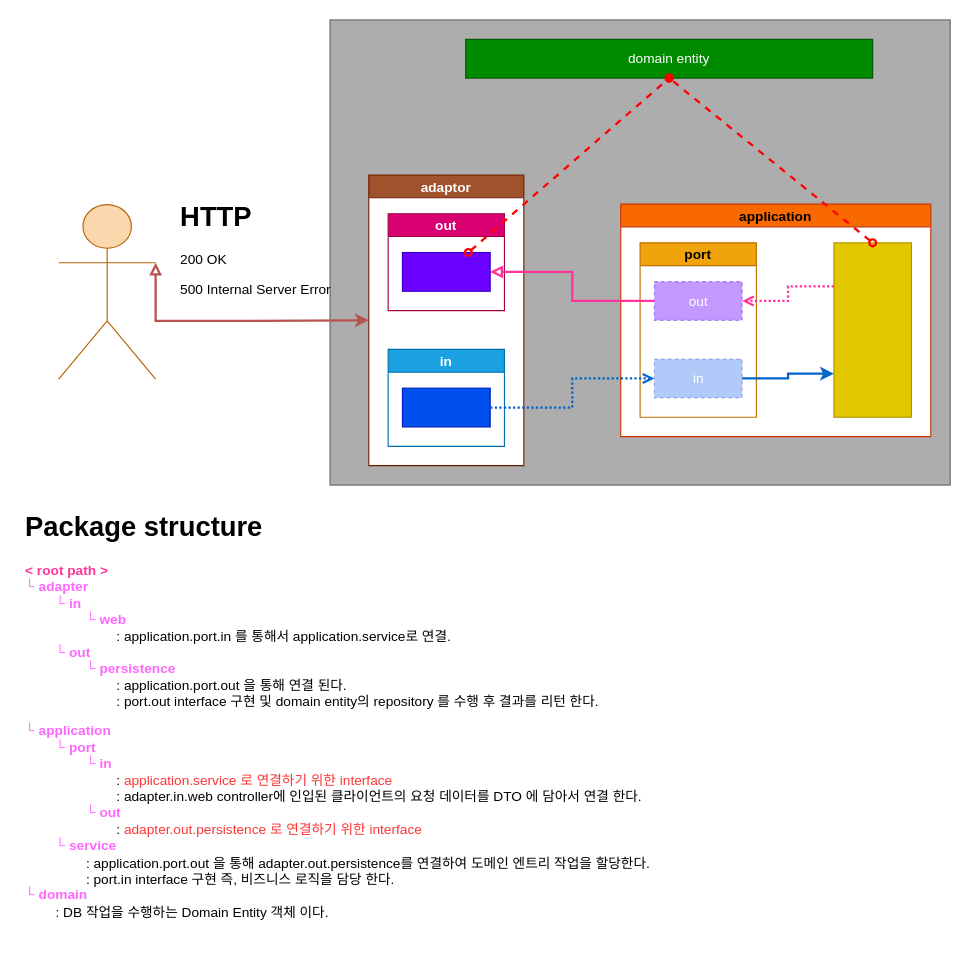
The diagram is 970 pixels wide and 968 high, and some of its shapes have lost their labels. Here are the shapes that lost their labels. From the top down, the centre of each, then its label:
the point at 107,291: Actor
the point at 445,271: persistence
the point at 872,329: service
the point at 445,407: web
